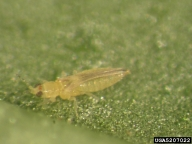Thrips: (30, 64, 136, 105)
